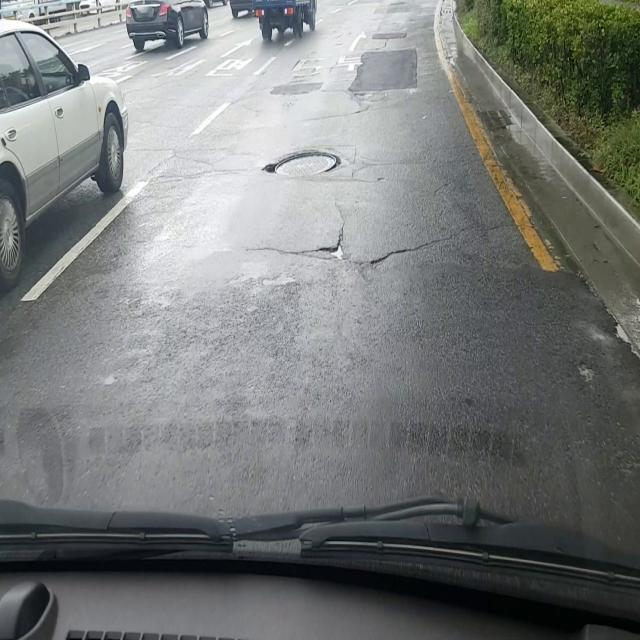Pothole: (260, 149, 343, 178)
